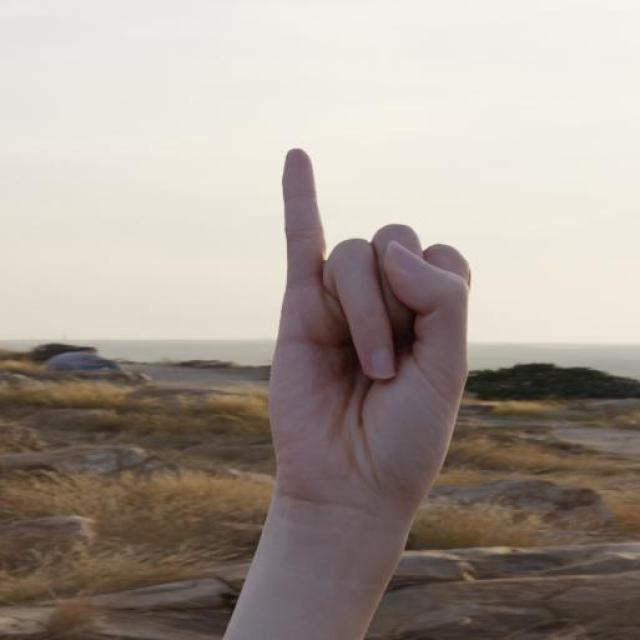I: (266, 142, 474, 512)
